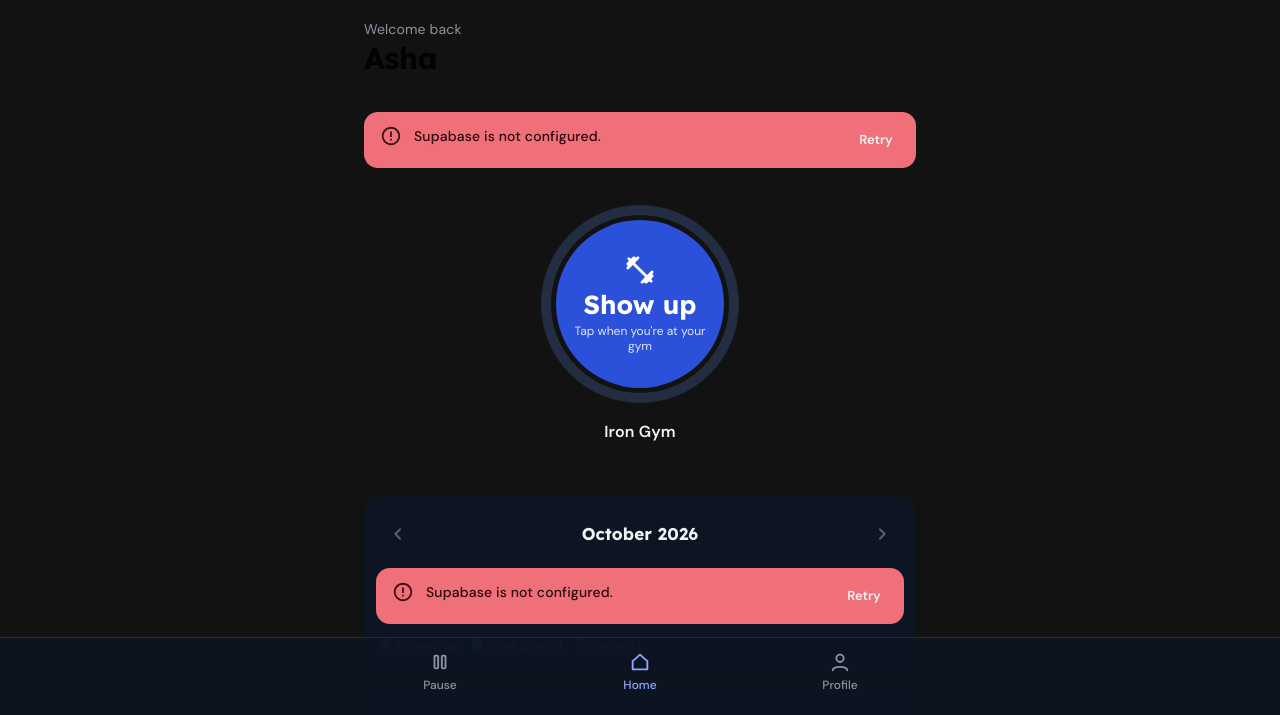
administrator (is_admin = true) › sees the setting in Manage Profile with fitness places selected
The width and height of the screenshot is (1280, 715).
Step 1. Click the button "Profile" → (840, 672), box [802,648,878,696]
(page scrolled)
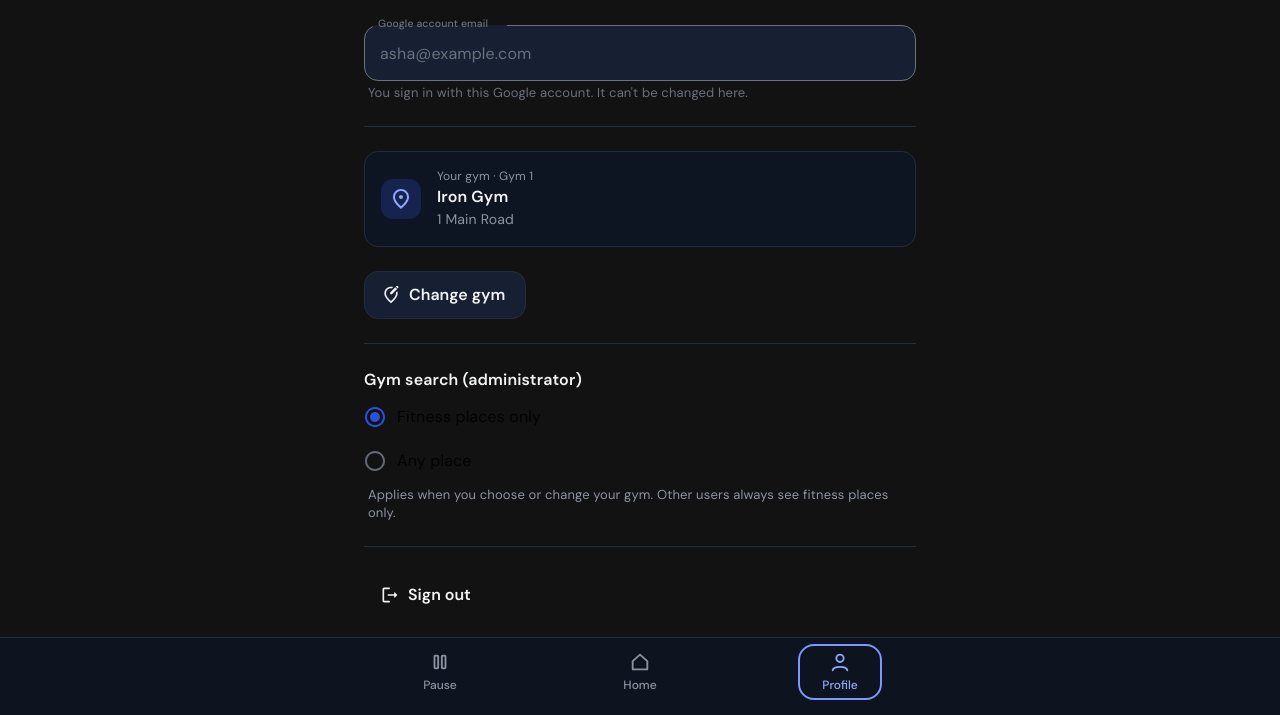
Result: the radio button labelled "Fitness places only" is checked at [363,405,541,429]
Result: the radio button labelled "Any place" is not checked at [363,449,472,473]
